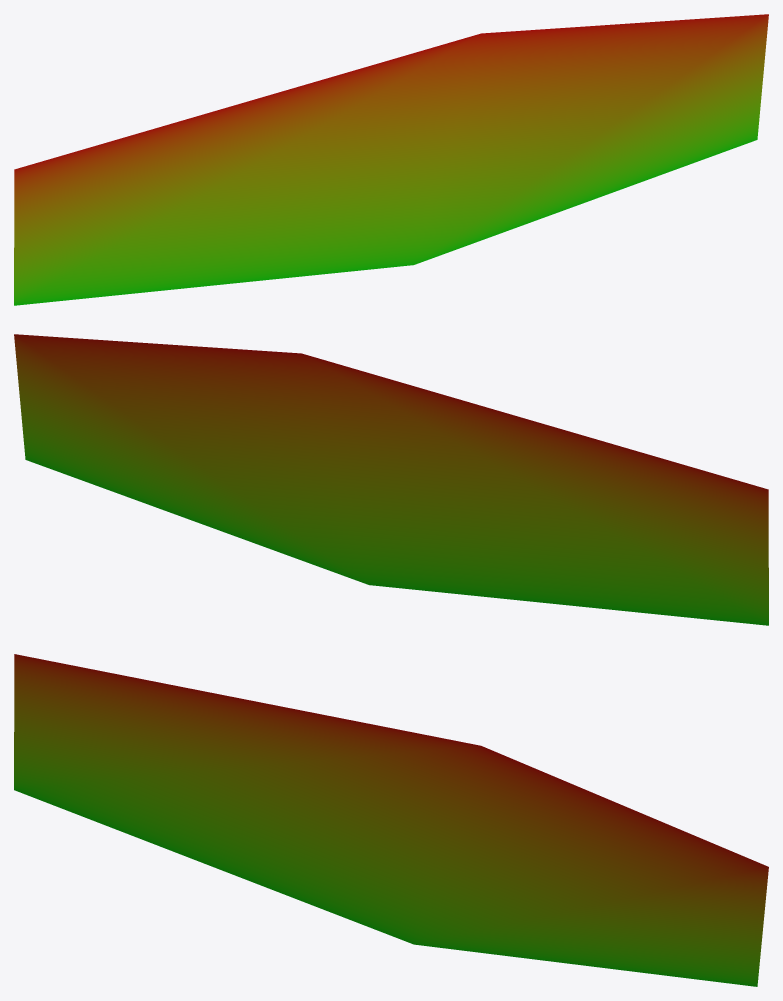
The model's file is Alpine Bearberry_LOD5_Var13_xb0gdazqx.fbx.
3 renders of one model, top to bottom at view 1: azimuth 30°, elevation 25°; view 2: azimuth 150°, elevation 25°; view 3: azimuth 330°, elevation 25°, orthographic.
Parts seen in each view (by area): view 1: _ui7t_Var13_LOD5; view 2: _ui7t_Var13_LOD5; view 3: _ui7t_Var13_LOD5.
Boxes of the visible parts, x1=… form: _ui7t_Var13_LOD5: x1=14, y1=14, x2=768, y2=305; _ui7t_Var13_LOD5: x1=14, y1=334, x2=768, y2=625; _ui7t_Var13_LOD5: x1=14, y1=654, x2=768, y2=986.
Size of the model in its own units: 65.68 by 17.89 by 0.
